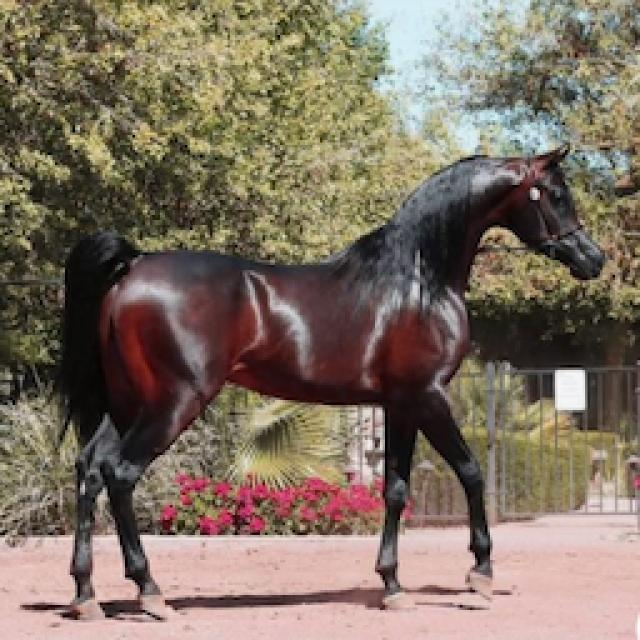Horse: (40, 137, 610, 625)
